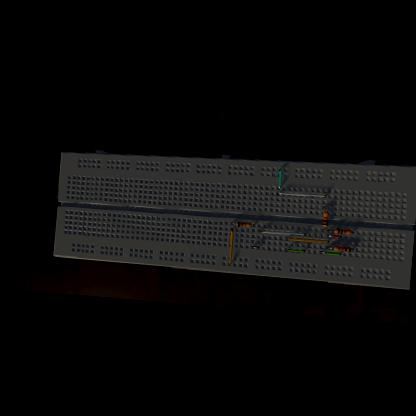breadboard: (53, 133, 416, 290)
resistor: (334, 228, 352, 236), (334, 245, 352, 252), (322, 212, 329, 227), (236, 222, 251, 228)
wire: (278, 191, 327, 199), (258, 230, 306, 236), (286, 238, 329, 244), (228, 228, 234, 266), (278, 169, 283, 189), (321, 252, 342, 256), (286, 249, 306, 253), (328, 235, 342, 238), (252, 246, 260, 249), (326, 247, 334, 249), (322, 228, 325, 231), (323, 208, 326, 210), (251, 224, 254, 226), (232, 223, 236, 224), (352, 249, 354, 250)
